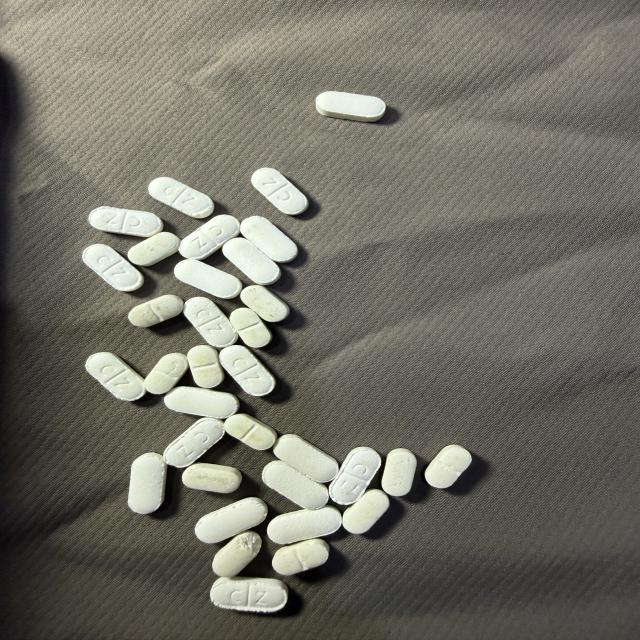pill: (195, 497, 267, 543), (262, 461, 328, 509), (274, 435, 338, 482), (329, 447, 381, 504), (164, 418, 224, 467), (82, 244, 143, 291), (220, 345, 275, 396), (86, 353, 145, 400), (210, 577, 287, 613), (174, 259, 242, 299), (148, 177, 214, 218), (184, 297, 237, 348), (268, 507, 341, 544), (179, 215, 239, 259), (252, 168, 308, 215), (240, 216, 297, 262), (223, 238, 280, 284), (164, 387, 238, 418), (128, 453, 166, 513), (89, 207, 163, 237), (212, 531, 261, 576), (272, 539, 329, 575), (343, 490, 389, 534), (316, 92, 385, 121), (425, 445, 471, 488), (225, 414, 277, 450), (240, 285, 289, 322), (182, 463, 241, 493), (128, 232, 180, 266), (129, 295, 183, 327), (145, 353, 187, 394), (229, 308, 272, 348), (381, 448, 416, 496), (187, 345, 224, 388)
